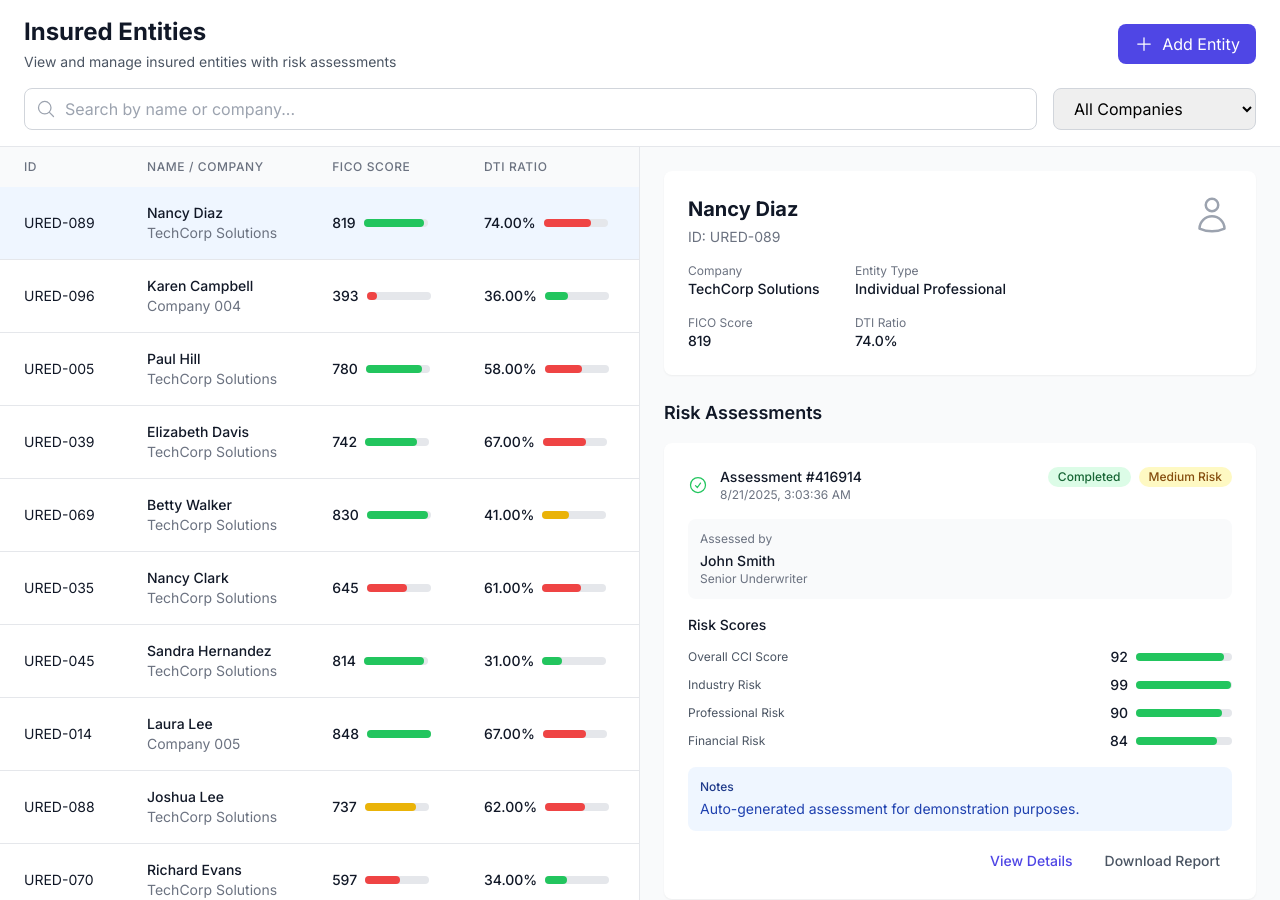
Test: InsuredEntitiesSplitView › opens Add Entity modal when button is clicked
Click the button "Add Entity" at {"x": 1187, "y": 44}, box [1118, 24, 1256, 64]
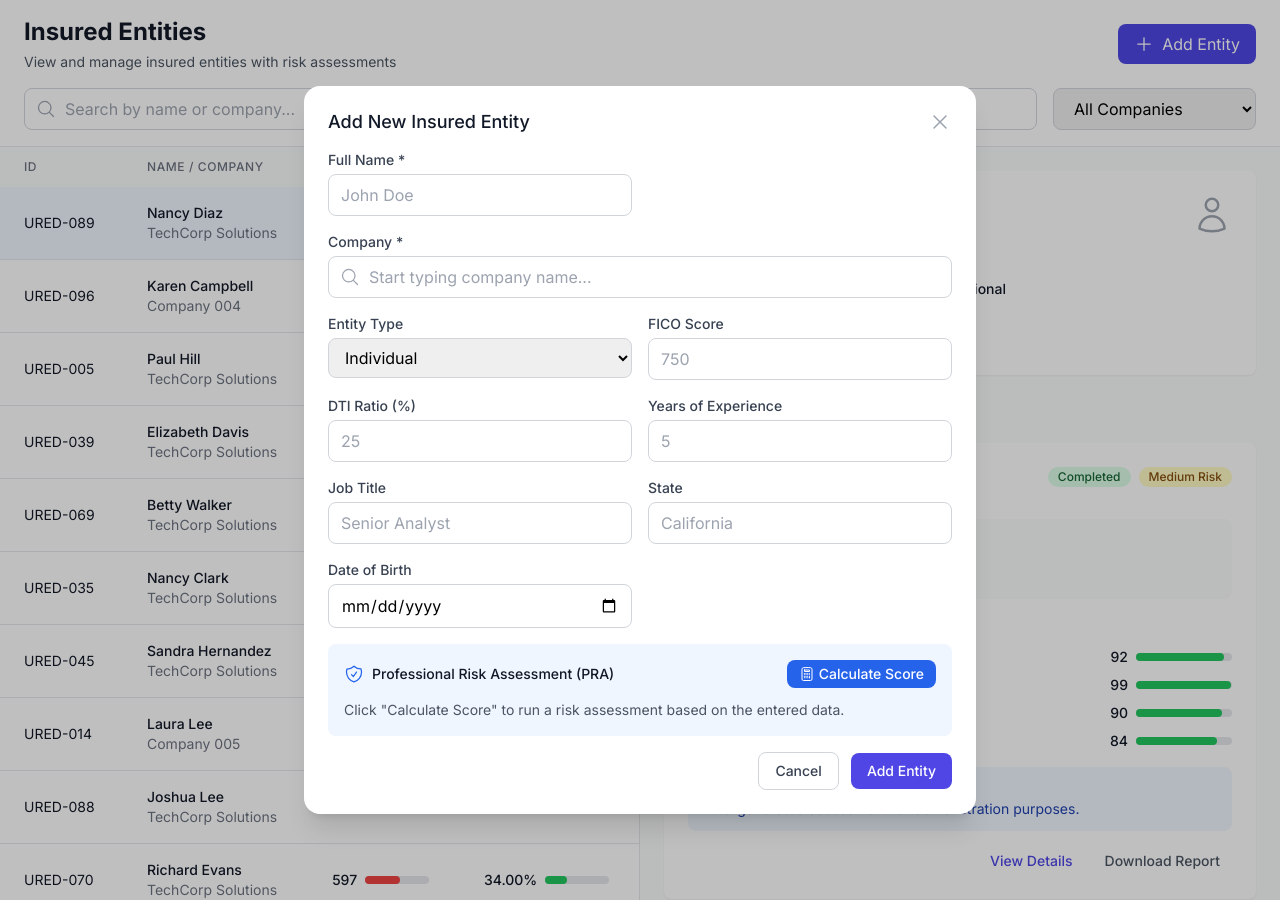
Now the heading "Add New Insured Entity" is shown, box [328, 110, 952, 134]
